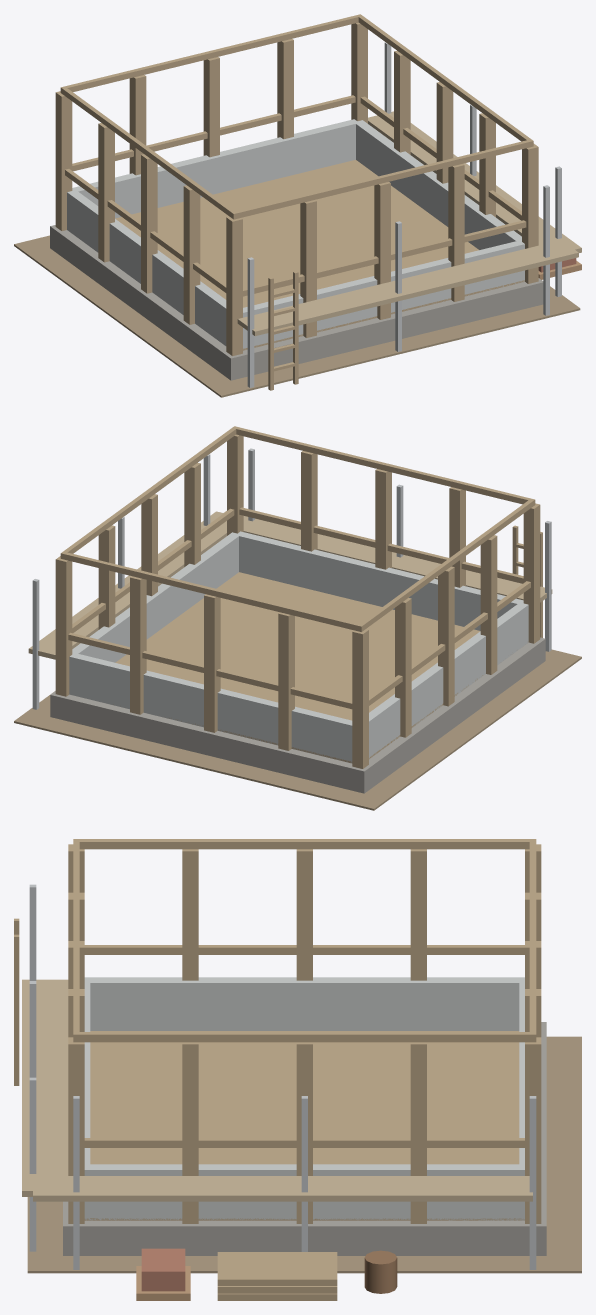
Rendered from spa_site_5.glb.
The picture shows the model from 3 angles, top to bottom: view 1: azimuth 30°, elevation 25°; view 2: azimuth 150°, elevation 25°; view 3: azimuth 270°, elevation 25°; orthographic projection. The views are drawn at different scales.
Visible parts, largest first — view 1: body; view 2: body; view 3: body.
Boxes of the visible parts, x1,y1,x2,y2 form: body: [14, 14, 581, 397]; body: [14, 426, 581, 810]; body: [14, 839, 581, 1300].
Bounding box in the file's own units: 2.28 × 0.89 × 2.09.
